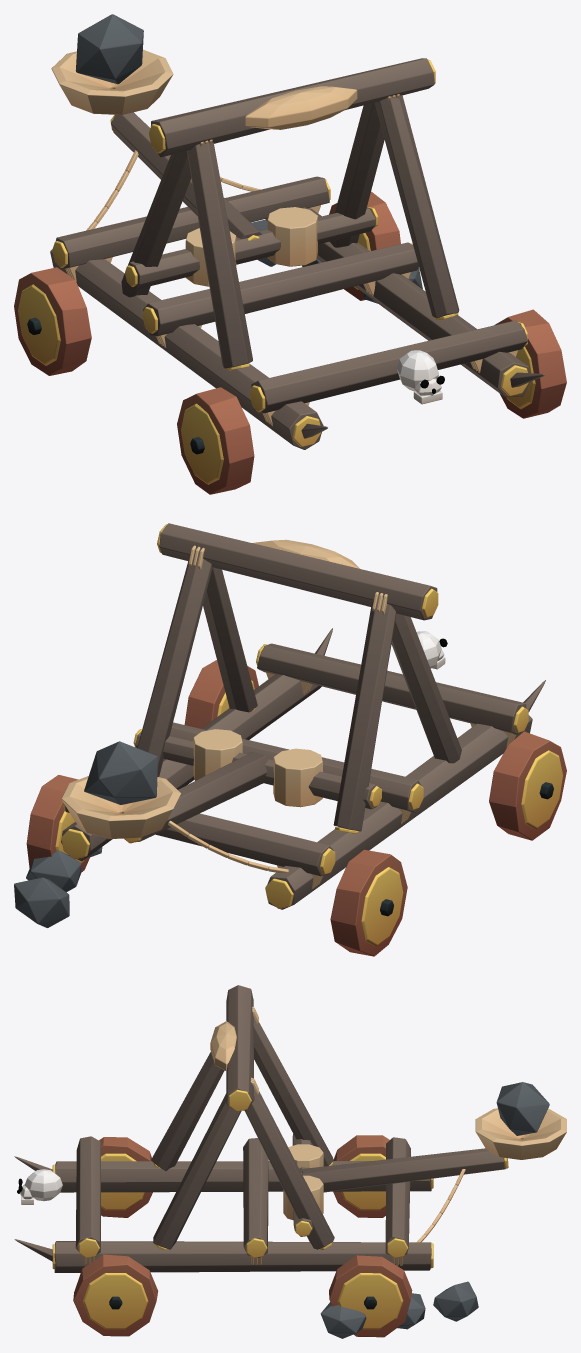
Rendered from siege_catapult.glb.
3 renders of one model, top to bottom at view 1: azimuth 30°, elevation 25°; view 2: azimuth 150°, elevation 25°; view 3: azimuth 270°, elevation 25°, orthographic. The views are drawn at different scales.
Parts seen in each view (by area): view 1: siege_catapult; view 2: siege_catapult; view 3: siege_catapult.
Part boxes in pixels (x1=…): siege_catapult: x1=14, y1=14, x2=566, y2=494; siege_catapult: x1=14, y1=523, x2=566, y2=956; siege_catapult: x1=14, y1=985, x2=566, y2=1338.
Bounding box in the file's own units: 4.95 × 3.99 × 8.25.
Materials: 1 (1 with a texture image).
